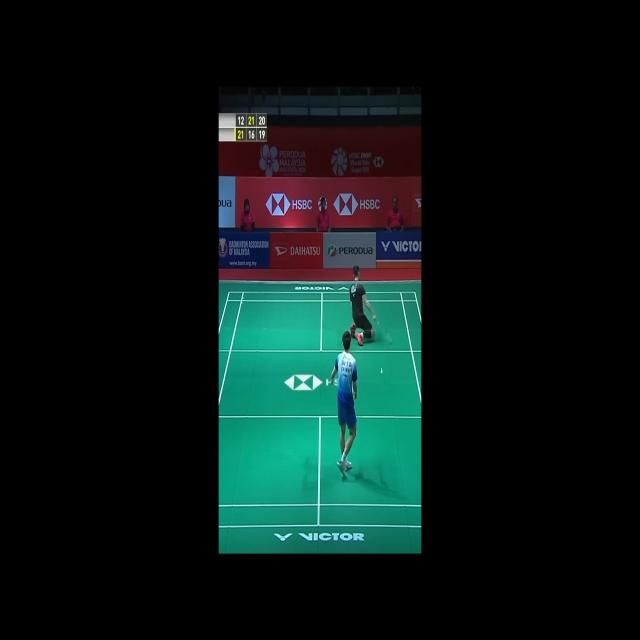shuttle-P15u: (381, 368, 384, 375)
